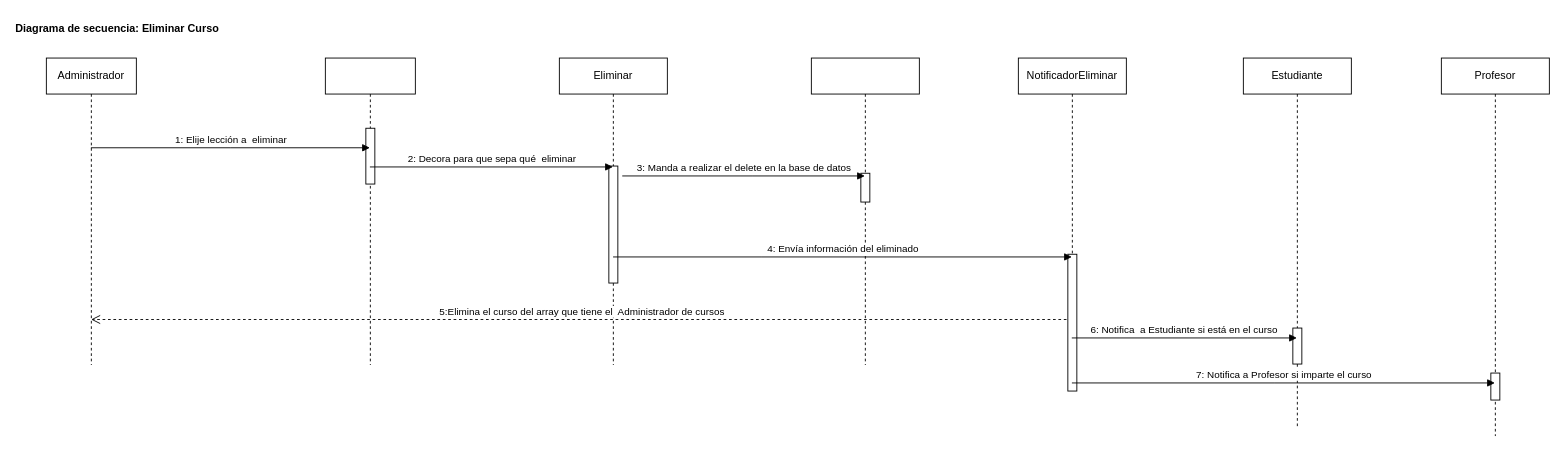
Some shapes in this 1565 by 452 pixel diagram are drawn without their labels. Here are the shapes that lost their labels. From the top down, the centre of each, then its label:
At point (369, 211): "ManejarCurso".
At point (864, 211): "Base de datos".
